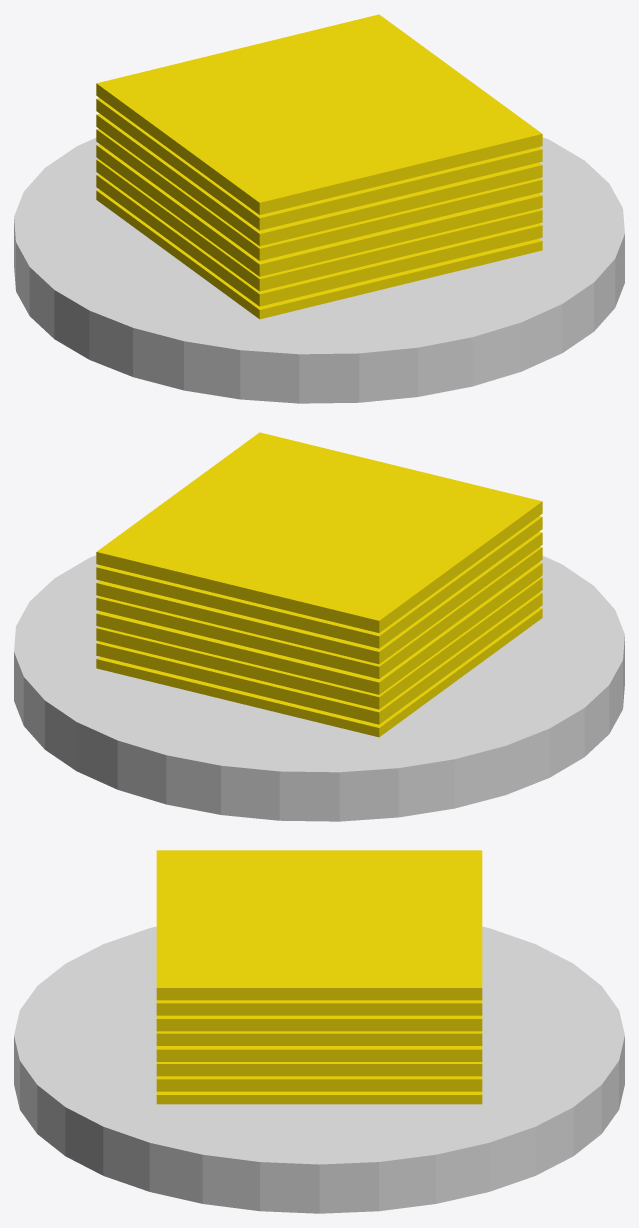
The model's file is E_CheeseGenerator.fbx.
3 views of the same model, one above another, from view 1: azimuth 30°, elevation 25°; view 2: azimuth 150°, elevation 25°; view 3: azimuth 270°, elevation 25° (orthographic).
Visible parts, largest first — view 1: Cube.007, Cylinder; view 2: Cube.007, Cylinder; view 3: Cylinder, Cube.007.
Part boxes in pixels (left/top/right/bottom): Cube.007: left=96, top=14, right=542, bottom=319; Cylinder: left=14, top=137, right=624, bottom=403; Cube.007: left=96, top=432, right=542, bottom=737; Cylinder: left=14, top=555, right=624, bottom=821; Cylinder: left=14, top=926, right=624, bottom=1213; Cube.007: left=156, top=850, right=482, bottom=1104.
Bounding box in the file's own units: 22.5 × 6.73 × 22.5.
